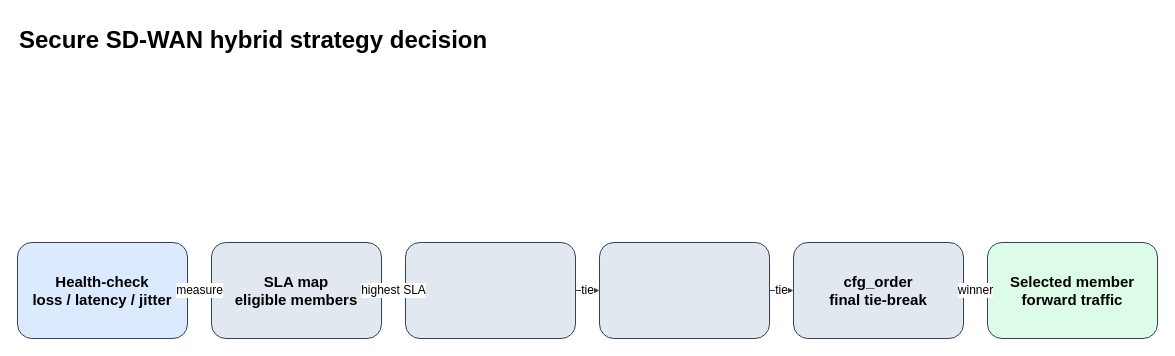
Some shapes in this 1175 by 356 pixel diagram are drawn without their labels. The centre of each missing label's shape, as x and y in pixels:
Cost ranking member cost: point 490,290
Quality score link-cost-factor: point 684,290
